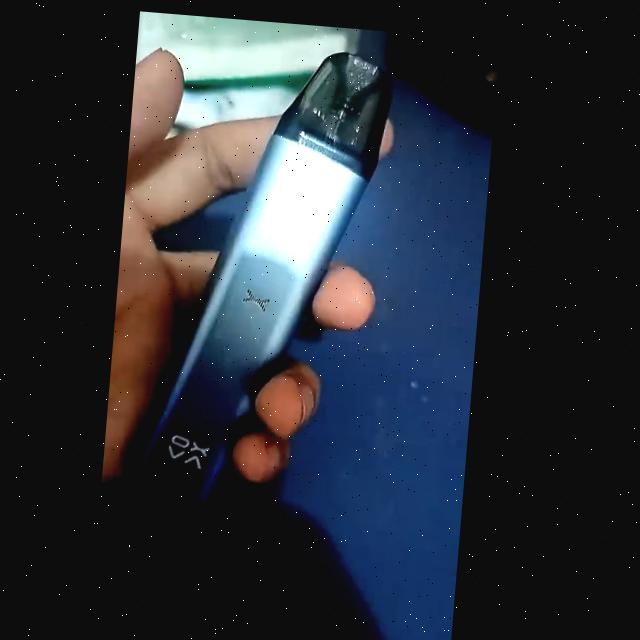vape: (118, 33, 394, 520)
